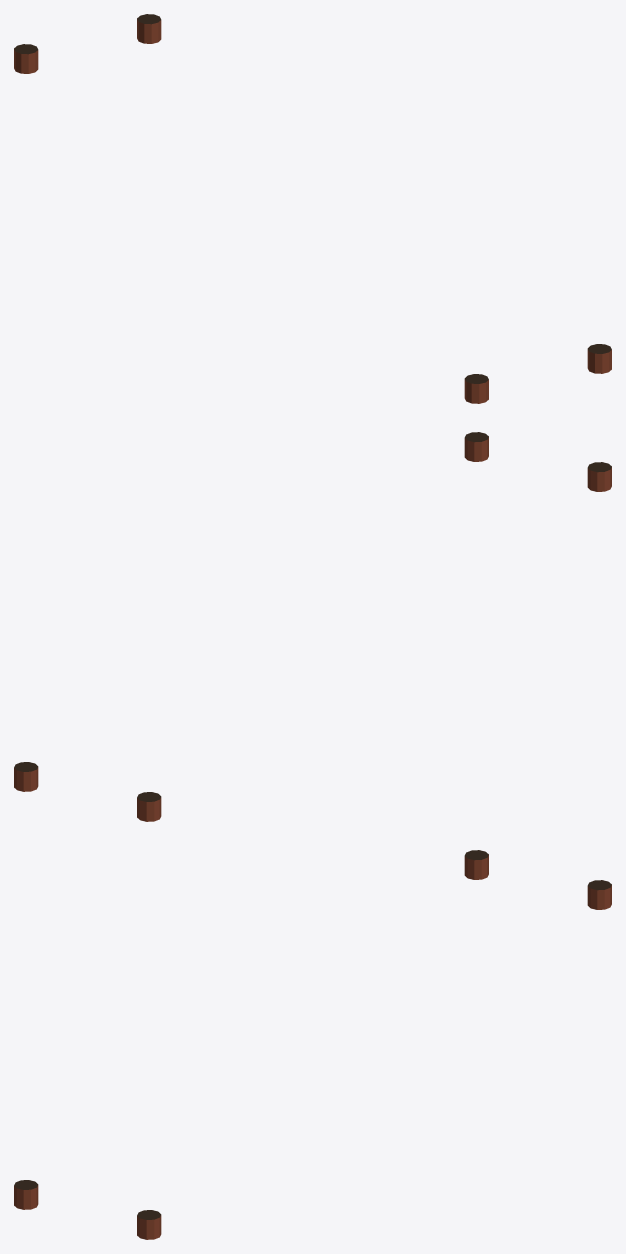
The model's file is 1274-Buildings-shell-pieces-roof-terrace-emitTerrace-120-triangles-3-81-x-0-50-x-21-1.glb.
3 views of the same model, one above another, from view 1: azimuth 30°, elevation 25°; view 2: azimuth 150°, elevation 25°; view 3: azimuth 330°, elevation 25° (orthographic).
Visible parts, largest first — view 1: emitTerrace; view 2: emitTerrace; view 3: emitTerrace.
Part boxes in pixels (bbox=[...]): emitTerrace: bbox=[14, 14, 611, 403]; emitTerrace: bbox=[14, 432, 611, 821]; emitTerrace: bbox=[14, 850, 611, 1239].
Bounding box in the file's own units: 3.81 × 0.5 × 21.13.
